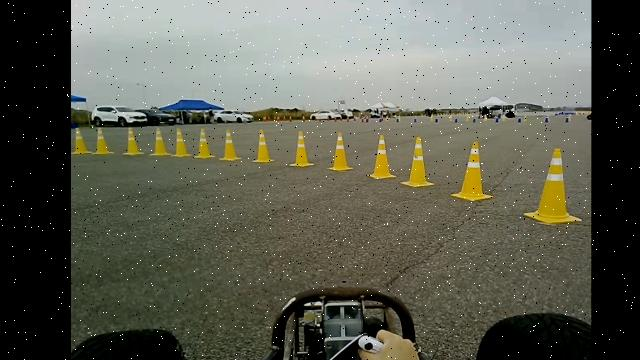yellow cone: (523, 148, 582, 224), (449, 141, 494, 201), (400, 136, 435, 188), (367, 134, 396, 180), (326, 131, 354, 171), (289, 129, 314, 167), (252, 128, 274, 163), (193, 127, 216, 159), (219, 128, 241, 161), (92, 127, 115, 155), (149, 127, 171, 156), (171, 127, 192, 157), (122, 127, 144, 155), (72, 126, 92, 154)
